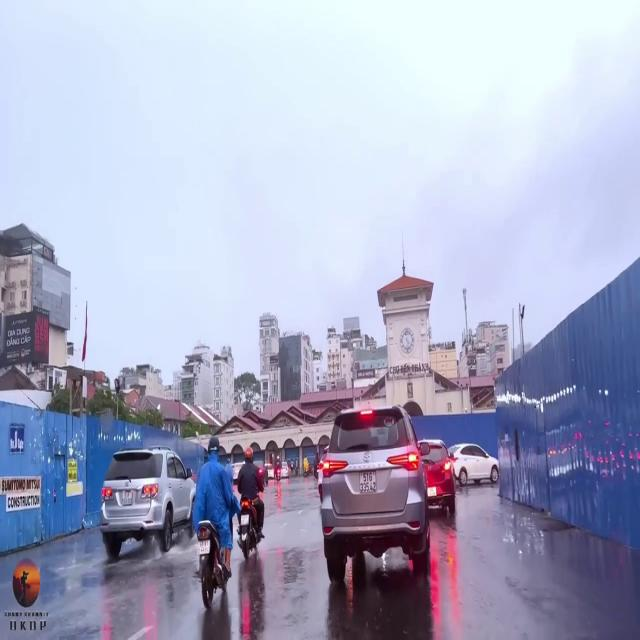bien_trang: (359, 469, 381, 496)
